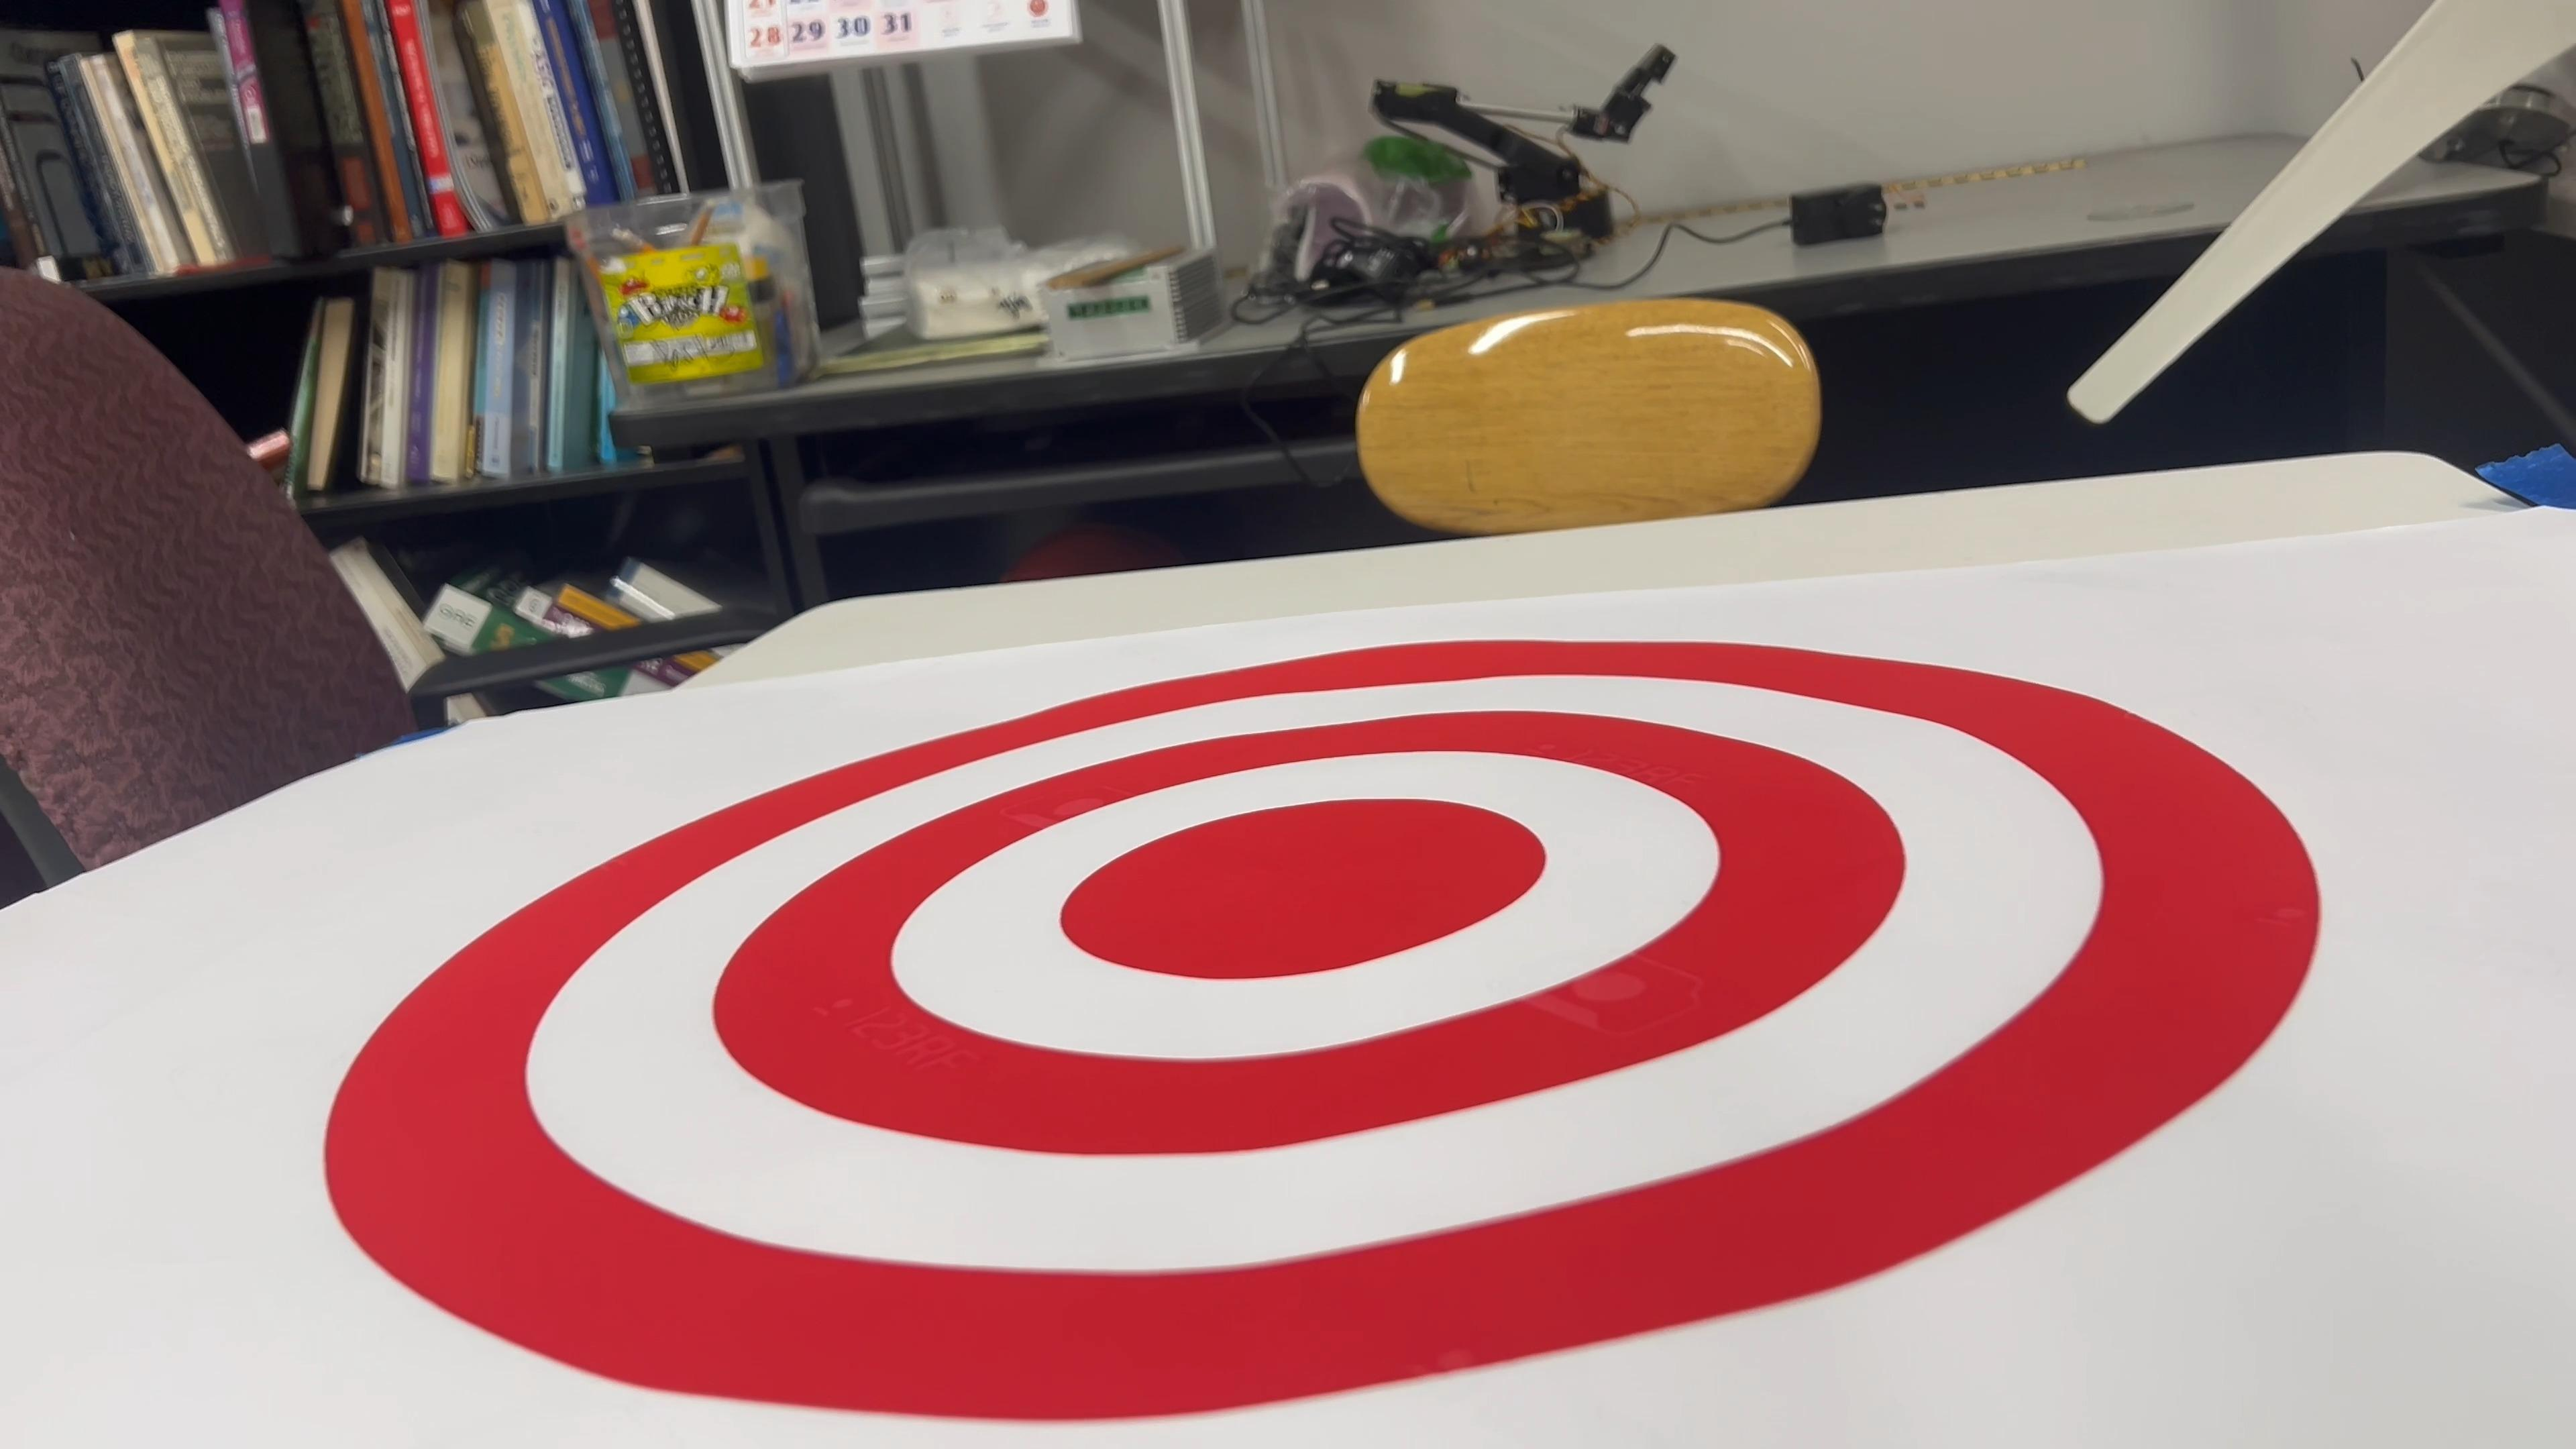target_red: (276, 619, 2330, 1406)
